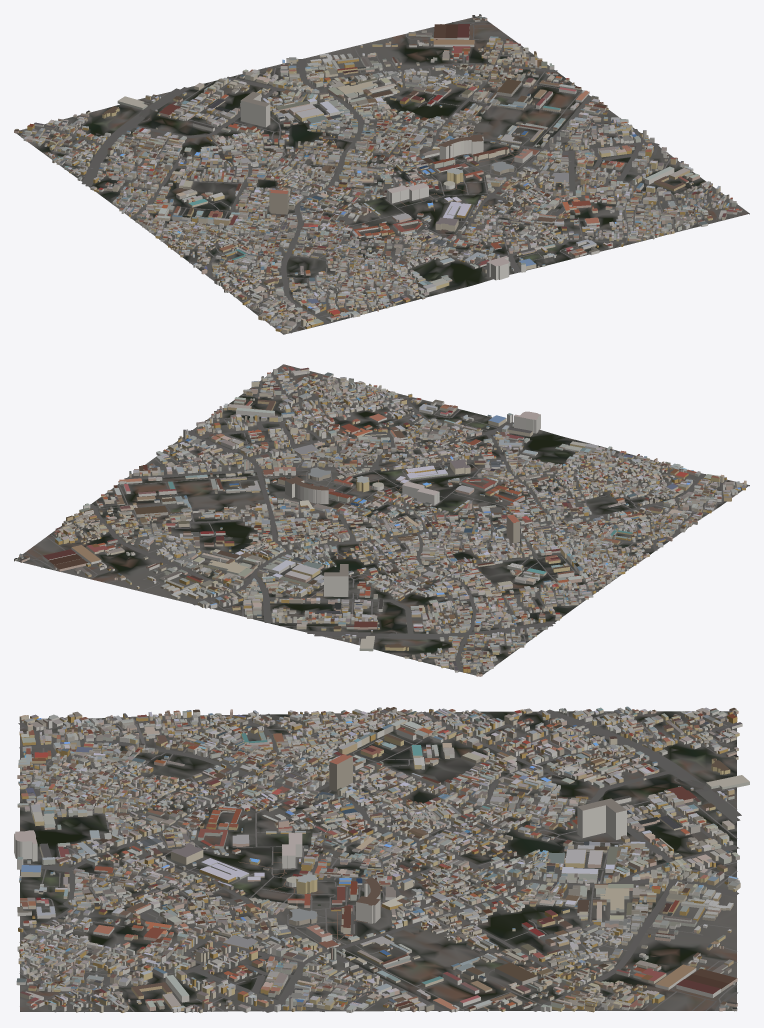
The picture shows the model from 3 angles, top to bottom: view 1: azimuth 30°, elevation 25°; view 2: azimuth 150°, elevation 25°; view 3: azimuth 270°, elevation 25°; orthographic projection. The views are drawn at different scales.
Parts seen in each view (by area): view 1: buildings, ground, roads; view 2: buildings, ground, roads; view 3: buildings, ground, roads.
Part boxes in pixels (x1,y1,x2,y2): buildings: (14, 14, 742, 333); ground: (16, 16, 749, 334); roads: (20, 16, 741, 333); buildings: (14, 366, 746, 676); ground: (14, 364, 749, 676); roads: (17, 366, 741, 673); buildings: (14, 706, 749, 1013); ground: (20, 711, 736, 1011); roads: (18, 709, 741, 1012).
Size of the model in its own units: 1418 by 82.88 by 1438.
